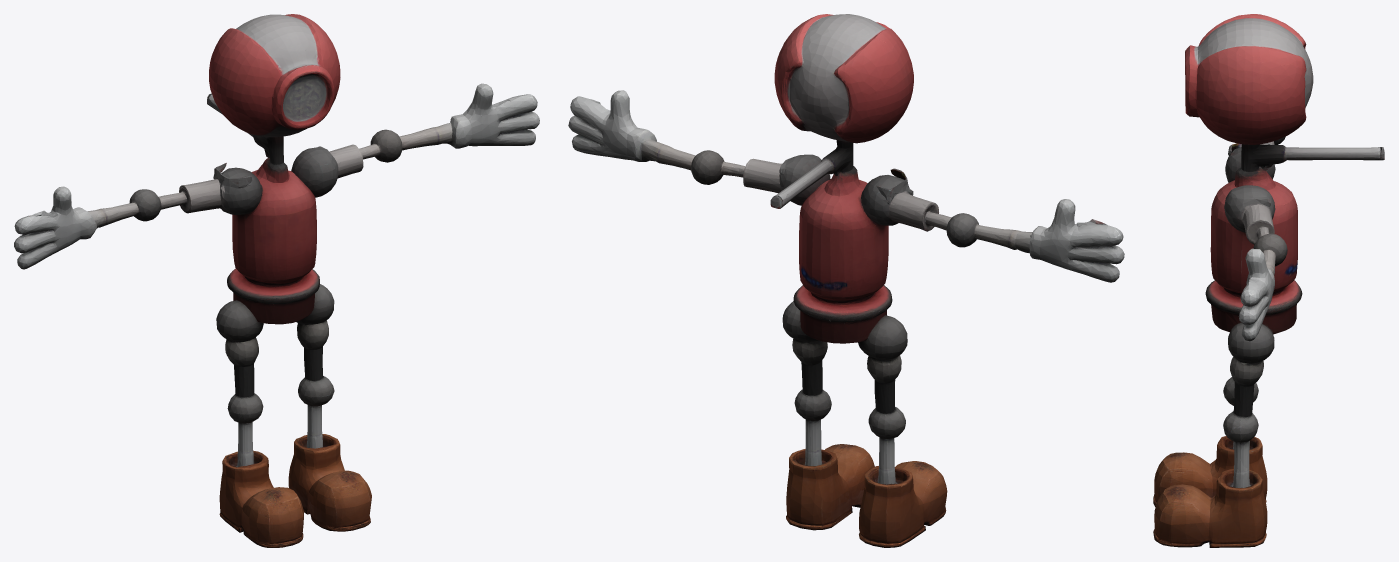
The picture shows the model from 3 angles, left to right: view 1: azimuth 30°, elevation 25°; view 2: azimuth 150°, elevation 25°; view 3: azimuth 270°, elevation 25°; orthographic projection. The views are drawn at different scales.
Parts seen in each view (by area): view 1: world; view 2: world; view 3: world.
Boxes of the visible parts, x1,y1,x2,y2 form: world: (14, 14, 539, 547); world: (568, 14, 1124, 547); world: (1153, 14, 1384, 547).
Size of the model in its own units: 1 by 0.8853 by 0.375.
1 material, 1 textured.
